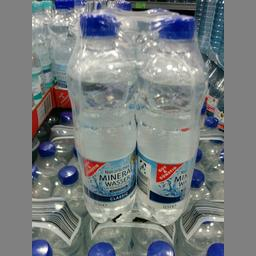water: (130, 12, 204, 226), (70, 12, 137, 222)
